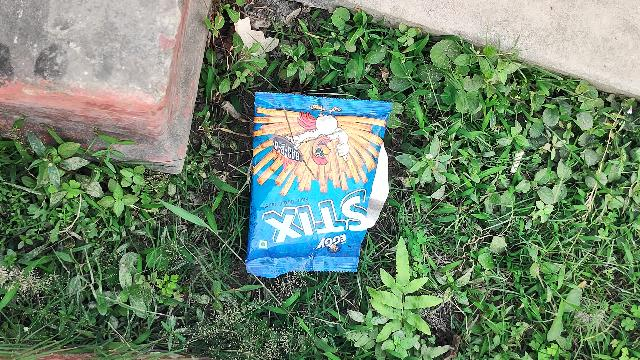packet: (240, 77, 397, 280)
